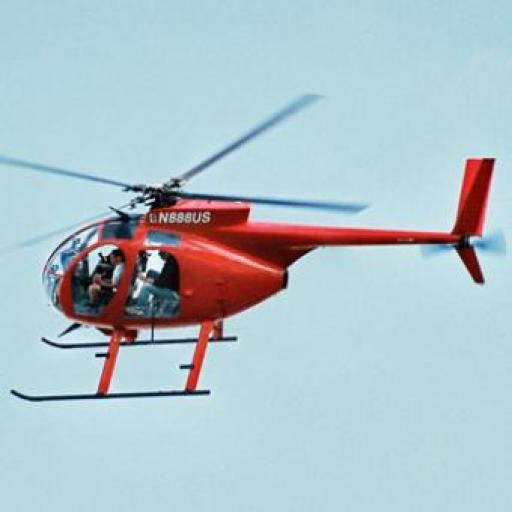helicopter: (3, 94, 500, 403)
